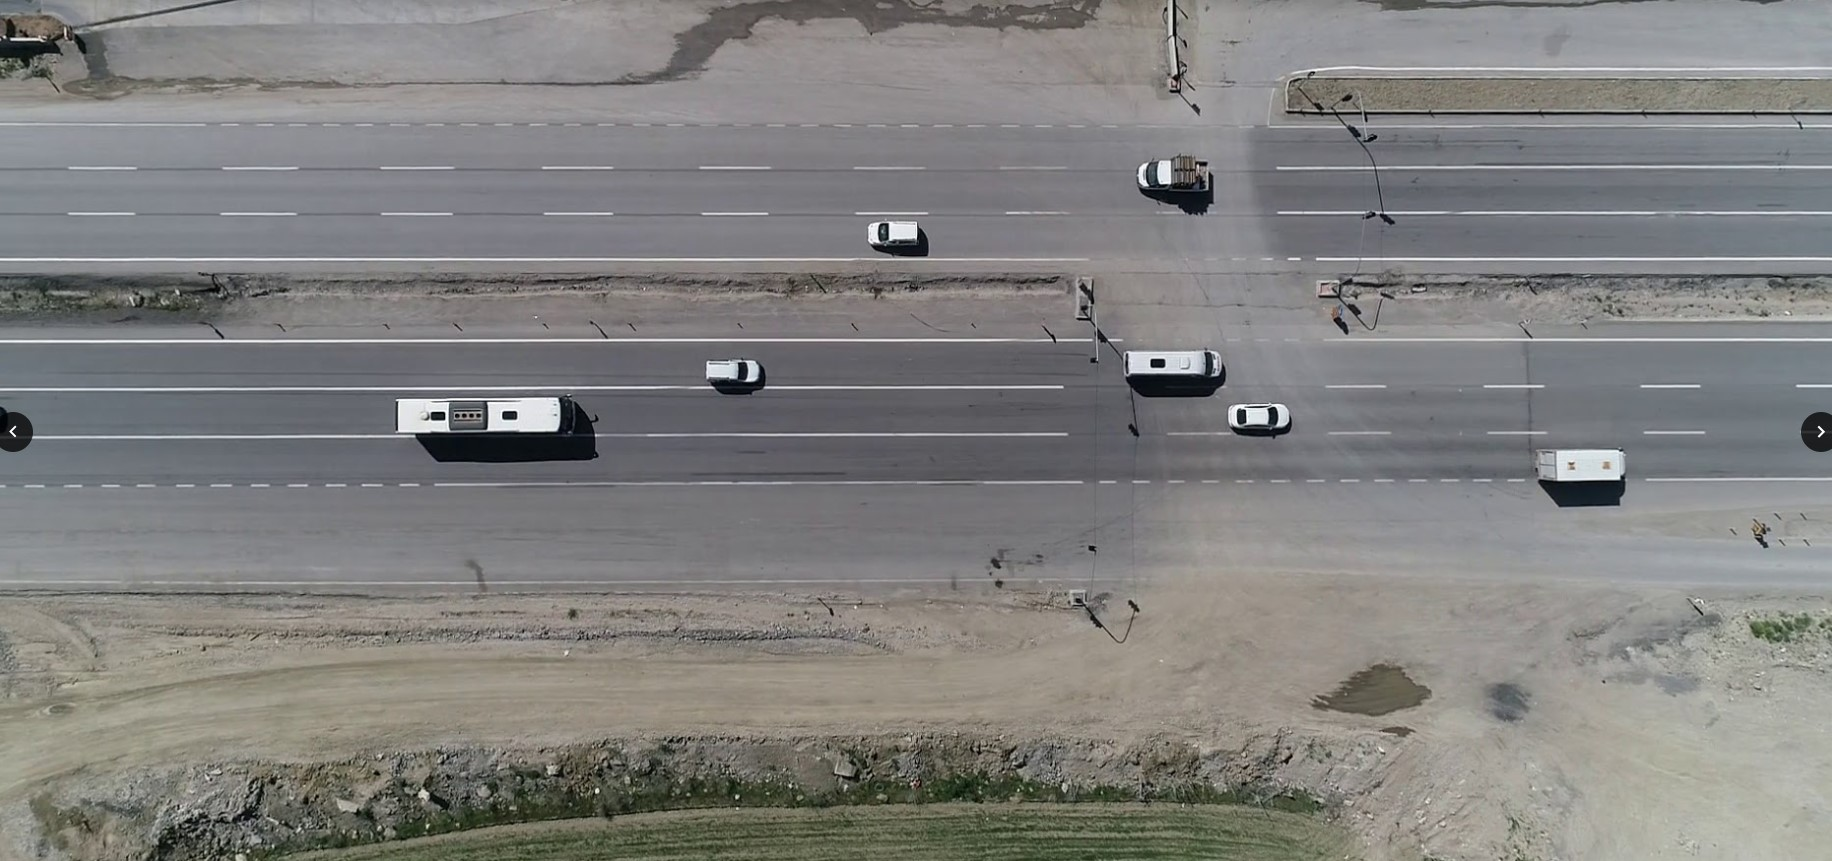araba: (1125, 350, 1227, 386), (1224, 397, 1290, 433), (703, 357, 762, 390), (867, 218, 922, 250)
kamyonet: (1534, 447, 1631, 489), (1138, 158, 1210, 194)
otobus: (393, 394, 581, 437)
